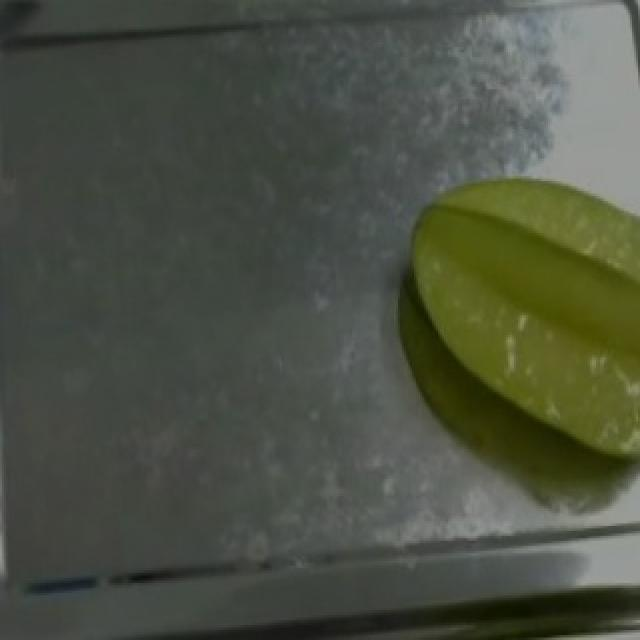fruit: (384, 141, 640, 484)
